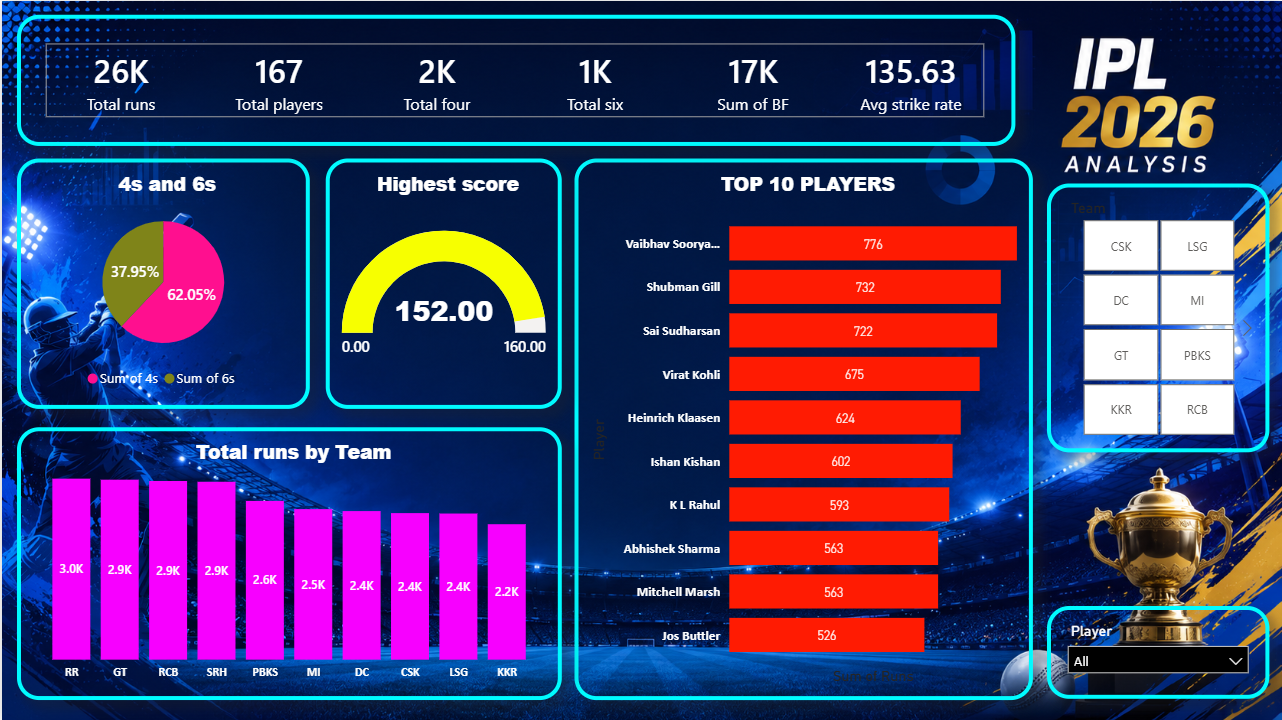

What the dashboard file says about the page in this screenshot:
{"tool":"powerbi","page":{"name":"Page 1","canvas":[1280,720],"ordinal":0},"visuals":[{"type":"barChart","title":"TOP 10 PLAYERS","fields":{"Category":["IPL2026.Player"],"Y":["Sum(IPL2026.Runs)"]},"box":[572.4,156.9,458.6,541.4],"z":0},{"type":"pieChart","title":"4s and 6s","fields":{"Y":["Sum(IPL2026.4s)","Sum(IPL2026.6s)"]},"box":[15,157.5,292.5,250],"z":1000},{"type":"columnChart","fields":{"Category":["IPL2026.Team"],"Y":["IPL2026.Total runs"]},"box":[15.5,425.9,544.8,272.4],"z":2000},{"type":"cardVisual","fields":{"Data":["IPL2026.Total runs","IPL2026.Total players","IPL2026.Total four","IPL2026.Total six","Sum(IPL2026.BF)","IPL2026.Avg strike rate"]},"box":[15.5,13.8,998.3,131],"z":3000},{"type":"slicer","fields":{"Values":["IPL2026.Team"]},"box":[1044.8,182.8,222.4,269],"z":4000},{"type":"slicer","title":"PLAYERS","fields":{"Values":["IPL2026.Player"]},"box":[1044.8,605.2,222.4,93.1],"z":5000},{"type":"gauge","fields":{"Y":["IPL2026.Highest score"]},"box":[323.8,157.5,236.2,250],"z":7000}]}

Visuals, with their boxes in screenshot pixels (x1, y1, x2, y2), scaled from the page's 1280x720 canvas onto the 1282x720 screenshot:
"TOP 10 PLAYERS" barChart: locate(573, 157, 1033, 698)
"4s and 6s" pieChart: locate(15, 158, 308, 408)
columnChart - IPL2026.Team x IPL2026.Total runs: locate(16, 426, 561, 698)
cardVisual - IPL2026.Total runs x IPL2026.Total players: locate(16, 14, 1015, 145)
slicer - IPL2026.Team: locate(1046, 183, 1269, 452)
"PLAYERS" slicer: locate(1046, 605, 1269, 698)
gauge - IPL2026.Highest score: locate(324, 158, 561, 408)
